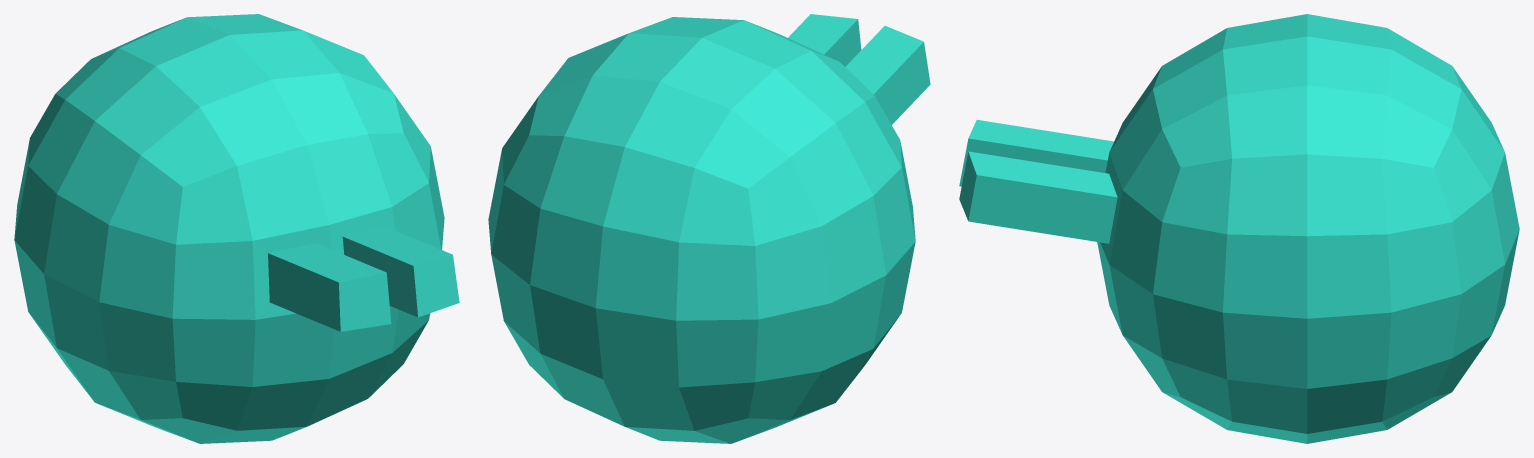
File: canhaum 3.fbx
3 renders of one model, left to right at view 1: azimuth 30°, elevation 25°; view 2: azimuth 150°, elevation 25°; view 3: azimuth 270°, elevation 25°, orthographic.
Visible parts, largest first — view 1: Canhaum 2; view 2: Canhaum 2; view 3: Canhaum 2.
Part boxes in pixels (box(x1,y1,x2,y2)): Canhaum 2: box(14, 14, 459, 443); Canhaum 2: box(488, 14, 930, 443); Canhaum 2: box(959, 14, 1519, 443).
Bounding box in the file's own units: 168 × 168 × 221.
